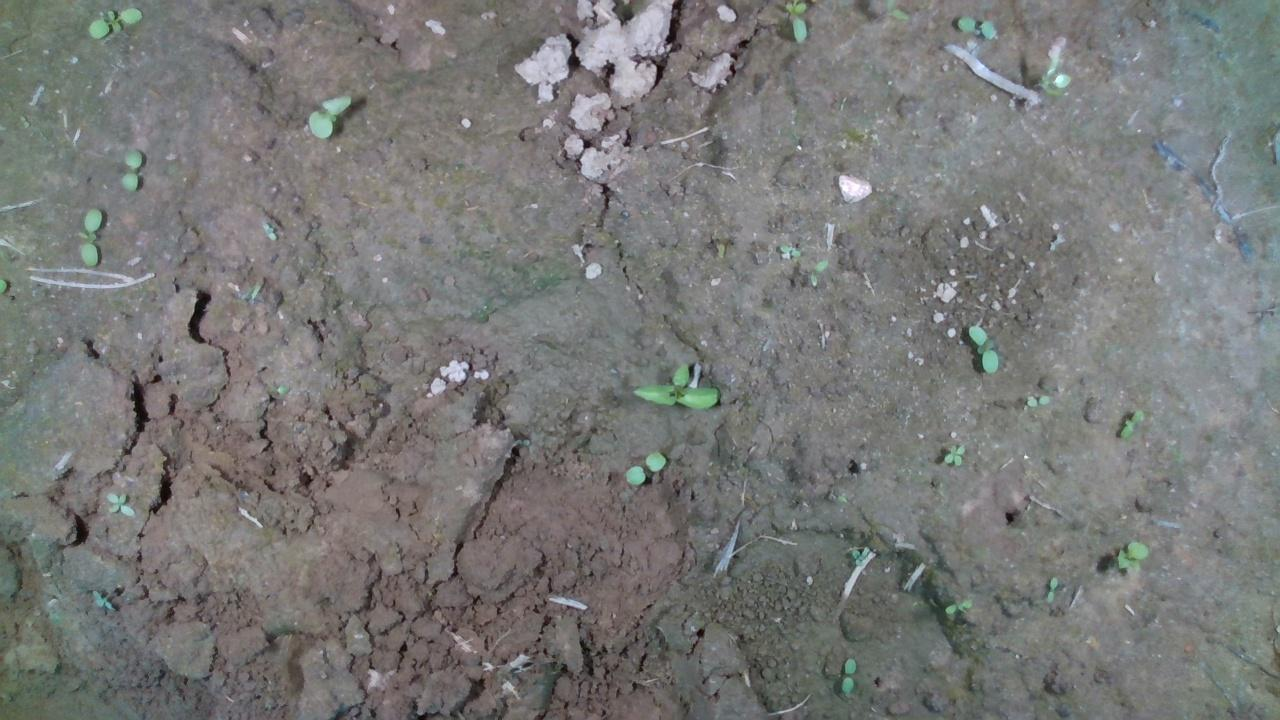weed: (629, 360, 721, 408), (305, 92, 351, 139), (71, 205, 105, 266), (85, 6, 143, 40), (966, 322, 998, 373), (624, 450, 666, 485), (1114, 539, 1148, 577), (953, 14, 997, 38), (118, 149, 142, 193), (1116, 407, 1144, 439), (840, 655, 856, 693), (942, 443, 964, 466), (944, 598, 972, 614), (778, 242, 801, 259), (1023, 393, 1050, 407), (1045, 575, 1057, 602)
